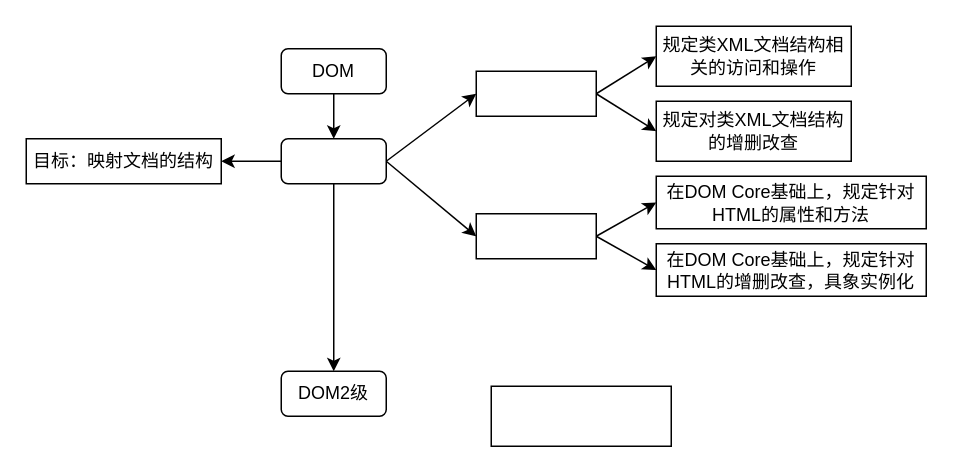
The diagram is 953 pixels wide and 473 high, and some of its shapes have lost their labels. Here are the shapes that lost their labels. From the top down, the box of each, then its label:
(475, 70, 596, 116): DOM Core
(280, 137, 386, 184): DOM1级
(475, 212, 596, 259): DOM HTML
(490, 385, 671, 446): 鼠标和用户界面事件、范围、遍历
